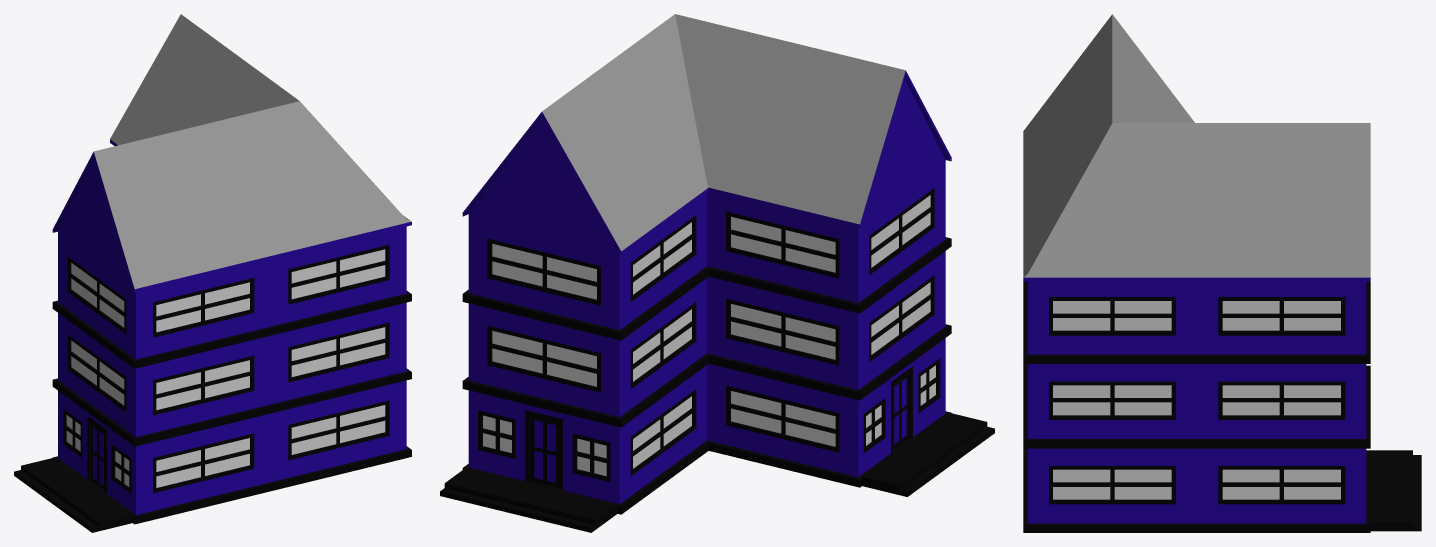
The model's file is medium building 5.fbx.
3 views of the same model, side by side, from view 1: azimuth 30°, elevation 25°; view 2: azimuth 150°, elevation 25°; view 3: azimuth 270°, elevation 25° (orthographic). The views are drawn at different scales.
Parts seen in each view (by area): view 1: building_001; view 2: building_001; view 3: building_001.
Boxes of the visible parts, box(x1,y1,x2,y2) form: building_001: box(14, 14, 411, 532); building_001: box(440, 14, 994, 532); building_001: box(1023, 14, 1421, 532).
Bounding box in the file's own units: 940 × 970 × 940.
